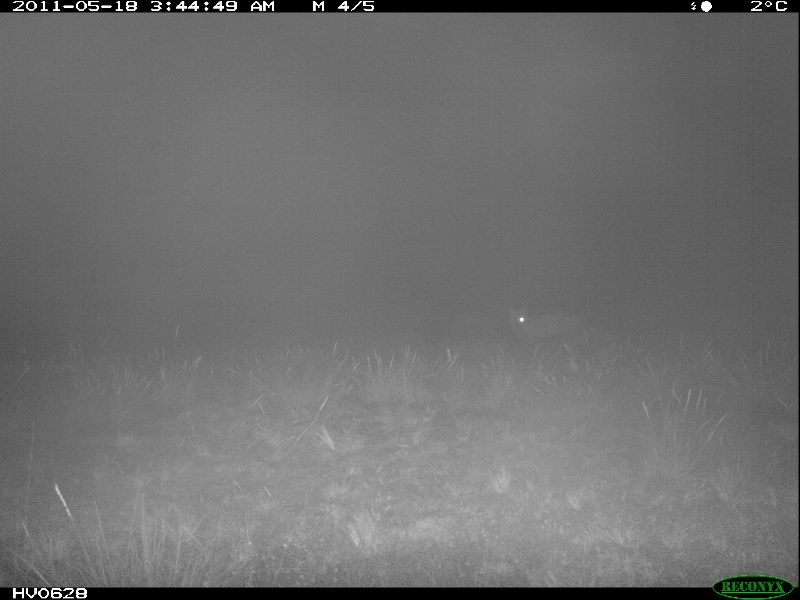fox: (507, 303, 603, 351)
